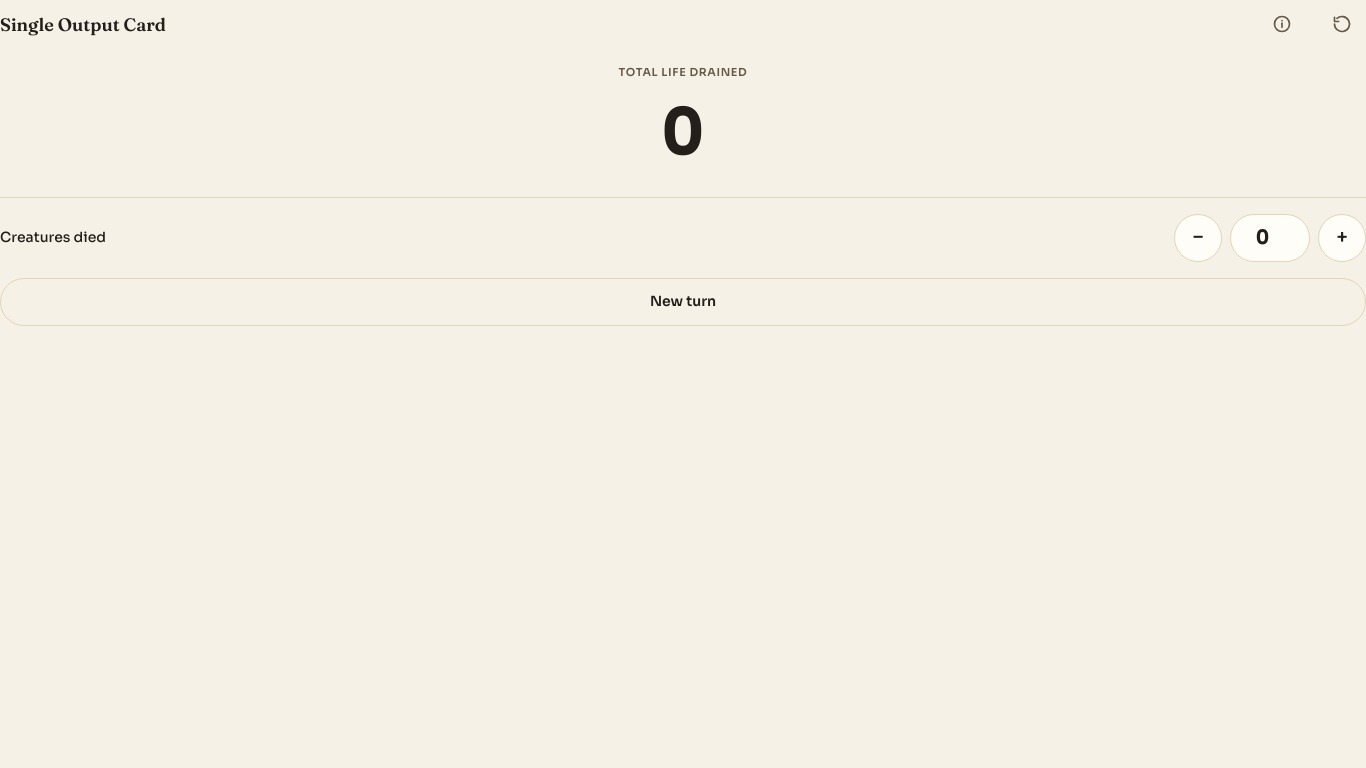
Scenario: CardScreen › Reset card › opens no sheet on a card that has no setup fields to re-ask
Step 1. Click the button named "Increase Creatures died" → (1342, 238), box [1318,214,1365,262]
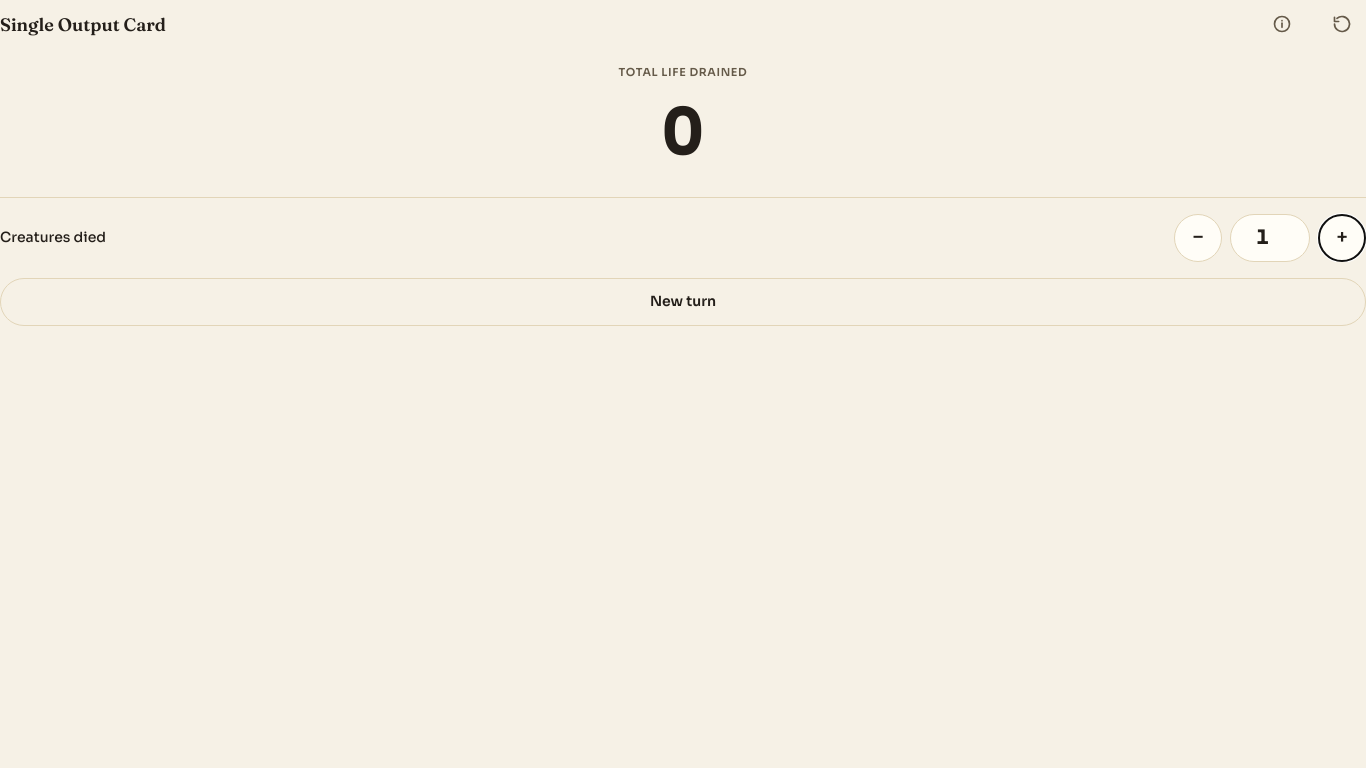
Expected: the number field named "Creatures died" holds "1", [1230,214,1310,262]
Step 2. Click the button named "Reset card" → (1342, 24), box [1318,0,1365,48]
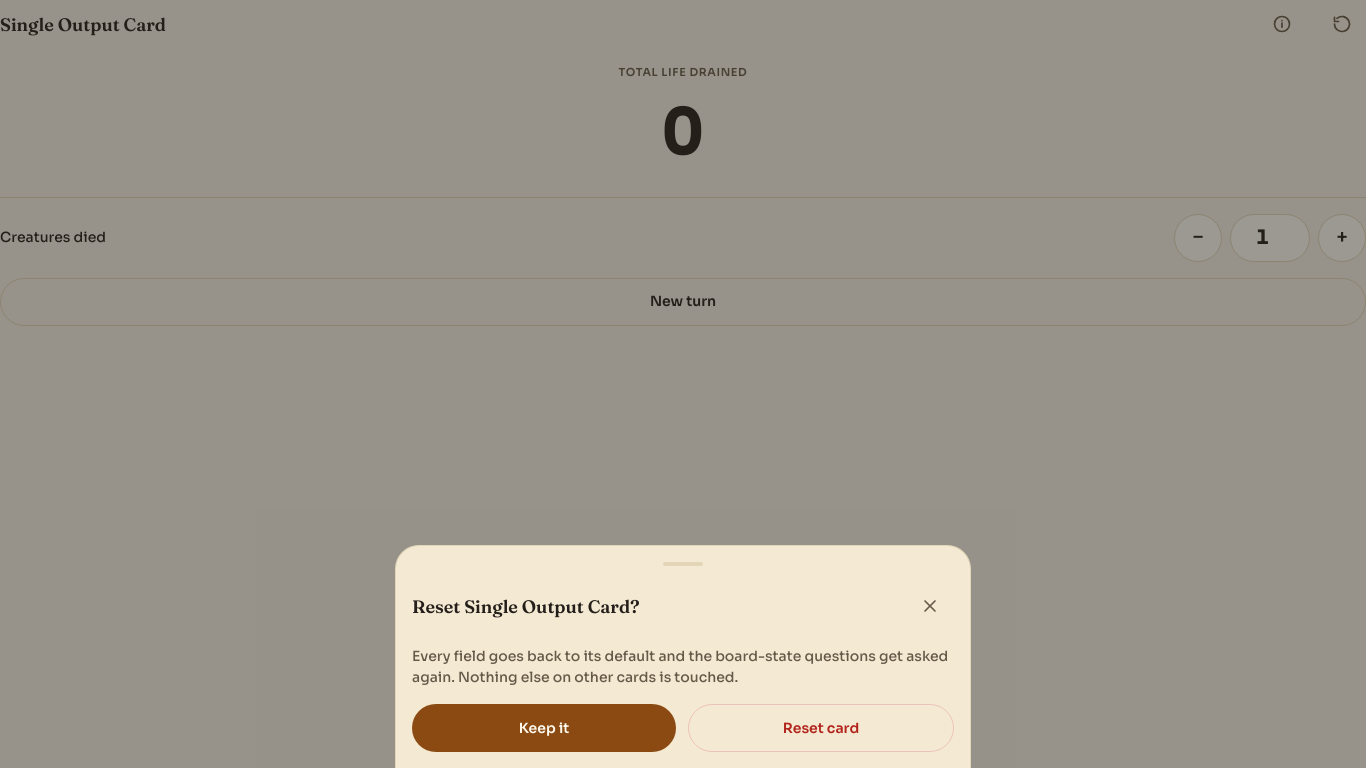
Step 3. Click the button "Reset card" → (821, 728), box [688,704,954,752]
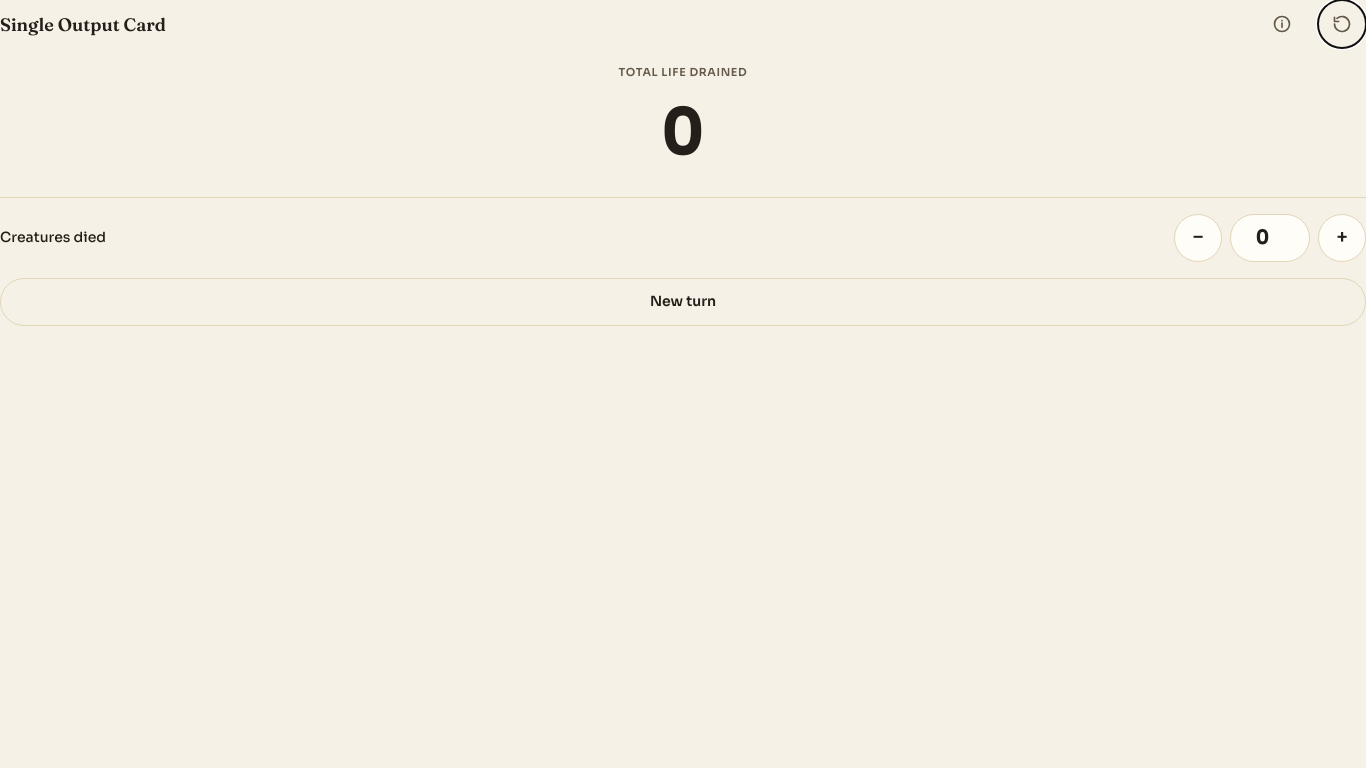
Expected: the dialog is gone
Expected: the number field named "Creatures died" holds "0", [1230,214,1310,262]
